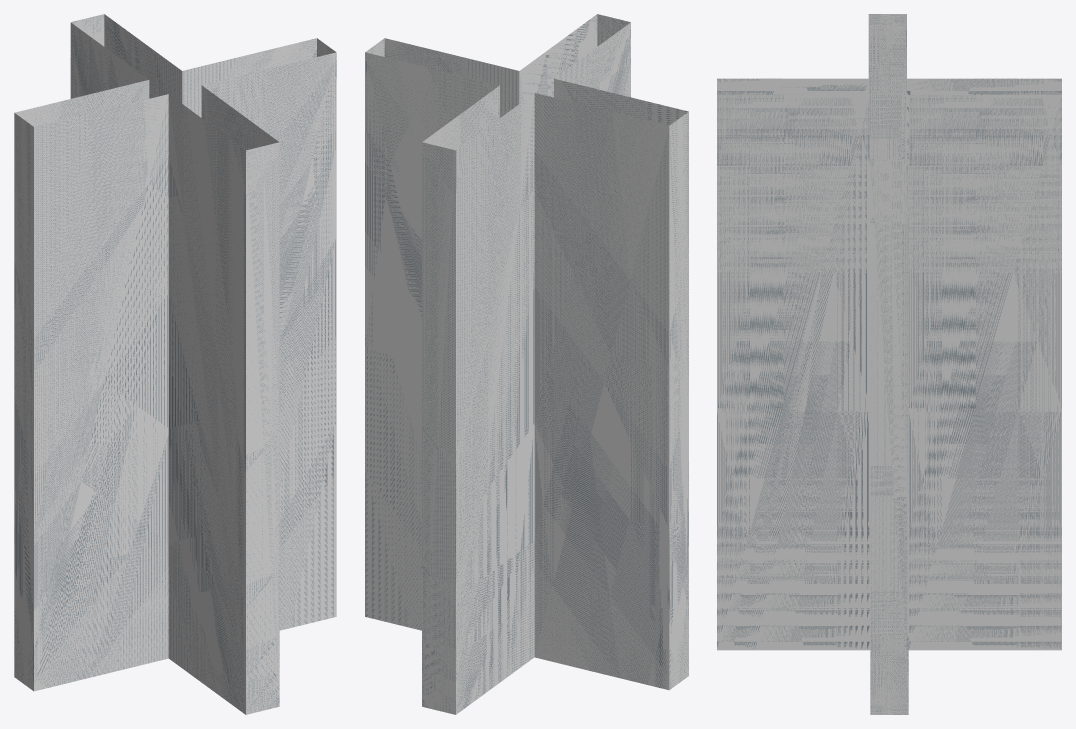
Rendered from Corner_ds_cross_100x100x025x4.dae.
3 views of the same model, side by side, from view 1: azimuth 30°, elevation 25°; view 2: azimuth 150°, elevation 25°; view 3: azimuth 270°, elevation 25° (orthographic).
Parts seen in each view (by area): view 1: group_0; view 2: group_0; view 3: group_0.
Boxes of the visible parts, x1=… form: group_0: x1=14, y1=14, x2=336, y2=714; group_0: x1=365, y1=14, x2=688, y2=714; group_0: x1=717, y1=14, x2=1061, y2=714.
Size of the model in its own units: 88.58 by 88.58 by 157.
